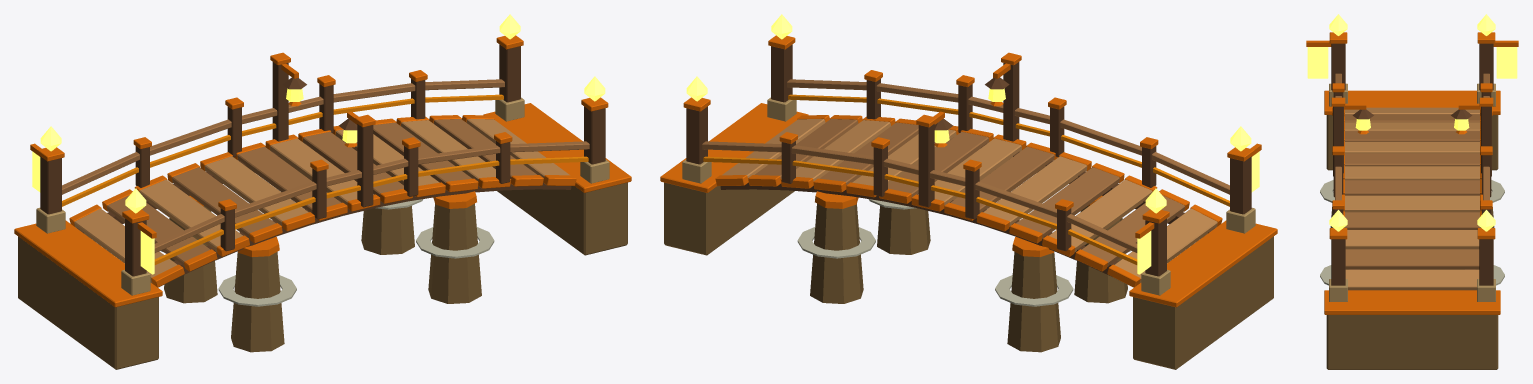
Rendered from Hub_Bruecke.fbx.
3 views of the same model, side by side, from view 1: azimuth 30°, elevation 25°; view 2: azimuth 150°, elevation 25°; view 3: azimuth 270°, elevation 25° (orthographic). The views are drawn at different scales.
Parts seen in each view (by area): view 1: Hub_Bruecke_Randstein, Hub_Bruecke_Gold, Hub_Bruecke_HolzMittel, Hub_Bruecke_HolzDunkel, Hub_Bruecke_HolzHell, Hub_Bruecke_SlotAkzent; view 2: Hub_Bruecke_Randstein, Hub_Bruecke_Gold, Hub_Bruecke_HolzMittel, Hub_Bruecke_HolzDunkel, Hub_Bruecke_HolzHell, Hub_Bruecke_SlotAkzent; view 3: Hub_Bruecke_HolzHell, Hub_Bruecke_HolzMittel, Hub_Bruecke_Randstein, Hub_Bruecke_Gold, Hub_Bruecke_HolzDunkel, Hub_Bruecke_SlotAkzent, Hub_Bruecke_HonigNeon.
Part boxes in pixels (box(x1,y1,x2,y2)): Hub_Bruecke_Randstein: box(18, 97, 627, 369); Hub_Bruecke_Gold: box(14, 35, 631, 307); Hub_Bruecke_HolzMittel: box(62, 79, 589, 267); Hub_Bruecke_HolzDunkel: box(40, 44, 605, 276); Hub_Bruecke_HolzHell: box(74, 119, 569, 283); Hub_Bruecke_SlotAkzent: box(32, 14, 605, 274); Hub_Bruecke_Randstein: box(664, 97, 1273, 369); Hub_Bruecke_Gold: box(660, 35, 1277, 307); Hub_Bruecke_HolzMittel: box(702, 79, 1229, 267); Hub_Bruecke_HolzDunkel: box(686, 44, 1251, 276); Hub_Bruecke_HolzHell: box(722, 119, 1217, 283); Hub_Bruecke_SlotAkzent: box(686, 14, 1259, 274); Hub_Bruecke_HolzHell: box(1344, 107, 1480, 290); Hub_Bruecke_HolzMittel: box(1335, 73, 1489, 269); Hub_Bruecke_Randstein: box(1320, 83, 1504, 369); Hub_Bruecke_Gold: box(1306, 32, 1518, 314); Hub_Bruecke_HolzDunkel: box(1331, 43, 1493, 290); Hub_Bruecke_SlotAkzent: box(1307, 14, 1517, 231); Hub_Bruecke_HonigNeon: box(1355, 119, 1469, 130).
Size of the model in its own units: 41.9 by 15.85 by 17.1.
